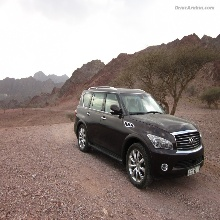no damage: (74, 84, 206, 188)
